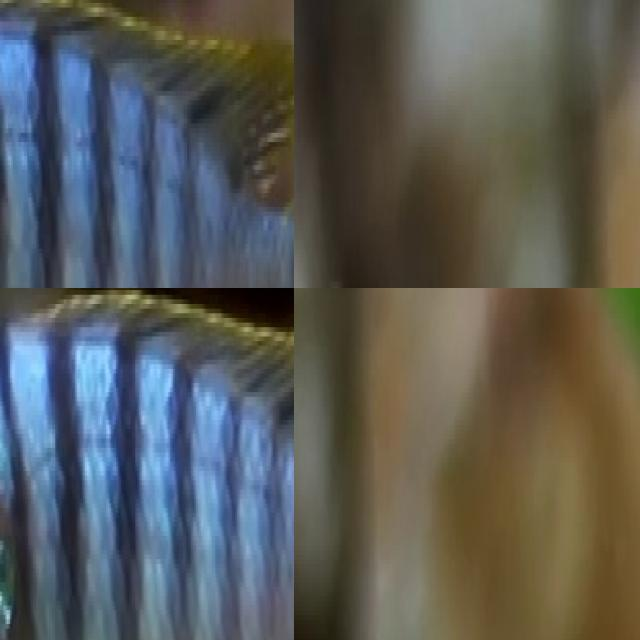fish: (0, 288, 294, 640), (0, 0, 294, 288)
